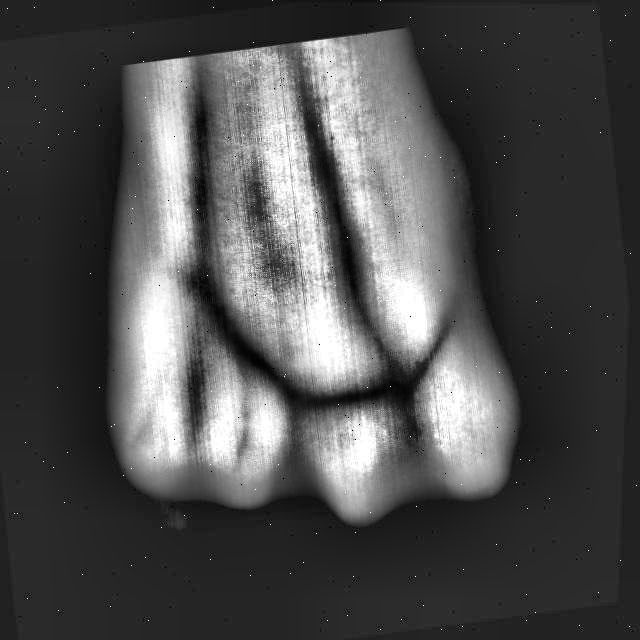Vein: (189, 123, 218, 277)
